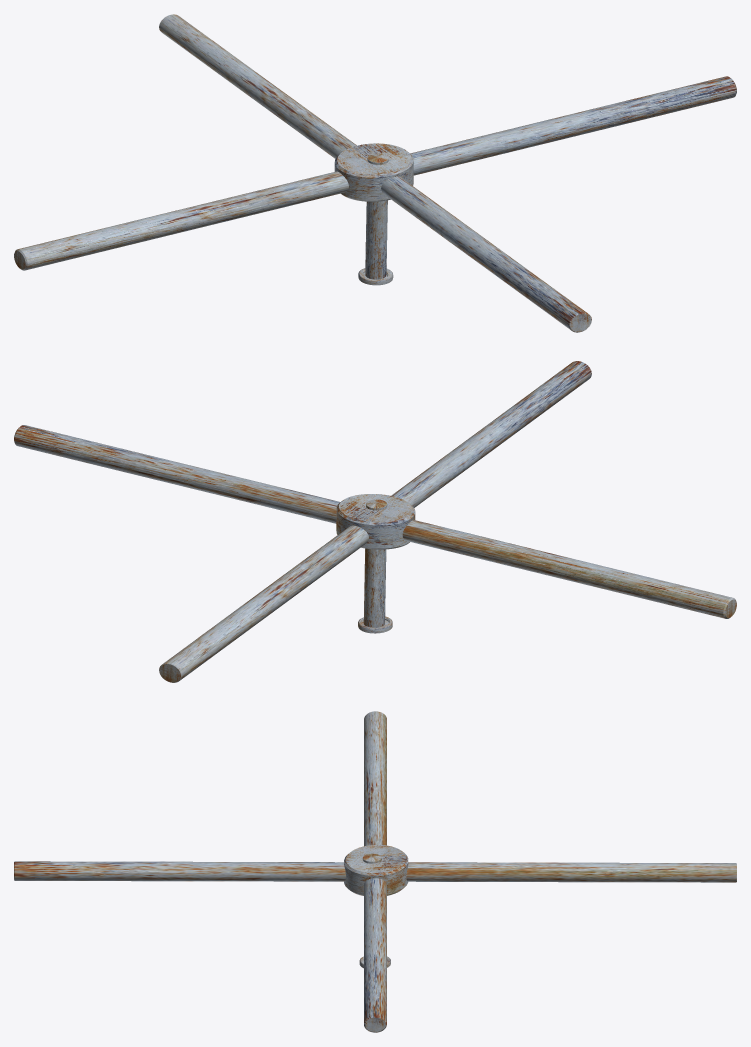
The model's file is RoldanaGrande.fbx.
The picture shows the model from 3 angles, top to bottom: view 1: azimuth 30°, elevation 25°; view 2: azimuth 150°, elevation 25°; view 3: azimuth 270°, elevation 25°; orthographic projection. The views are drawn at different scales.
Visible parts, largest first — view 1: pCylinder17, pCylinder16, pCylinder14, pCylinder18; view 2: pCylinder17, pCylinder16, pCylinder14, pCylinder18; view 3: pCylinder16, pCylinder17, pCylinder14.
Part boxes in pixels (bbox=[...]): pCylinder17: bbox=[14, 76, 736, 270]; pCylinder16: bbox=[159, 14, 591, 332]; pCylinder14: bbox=[334, 143, 413, 201]; pCylinder18: bbox=[365, 153, 388, 279]; pCylinder17: bbox=[14, 425, 736, 618]; pCylinder16: bbox=[159, 361, 591, 682]; pCylinder14: bbox=[336, 494, 415, 549]; pCylinder18: bbox=[363, 499, 387, 627]; pCylinder16: bbox=[14, 861, 736, 882]; pCylinder17: bbox=[364, 711, 386, 1032]; pCylinder14: bbox=[344, 844, 408, 895].
Bounding box in the file's own units: 5.9 × 0.9682 × 5.9.
